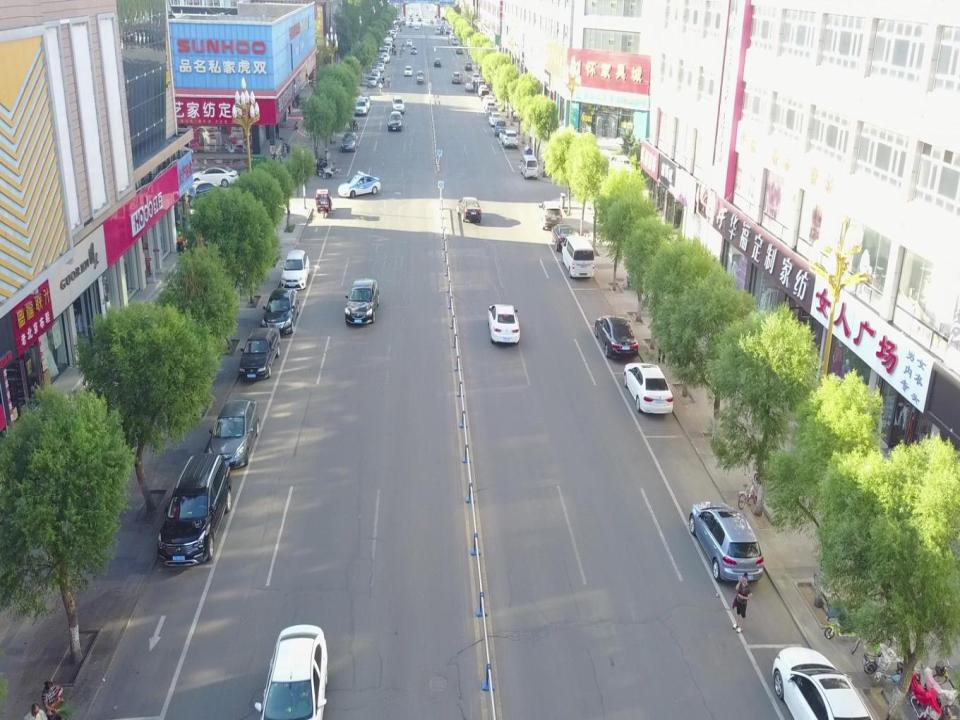car: (156, 454, 231, 568), (772, 644, 874, 720), (258, 622, 330, 720), (690, 502, 764, 588), (207, 397, 260, 469), (625, 361, 673, 417), (238, 326, 280, 382), (595, 314, 639, 360), (261, 284, 297, 338), (180, 178, 231, 214), (343, 276, 379, 324), (487, 304, 521, 345), (336, 172, 380, 200), (281, 250, 311, 291), (188, 167, 238, 189), (551, 223, 577, 252), (457, 195, 481, 224), (539, 200, 561, 230), (340, 131, 360, 153), (499, 129, 519, 149), (387, 110, 401, 133), (391, 96, 405, 114), (494, 118, 506, 137), (355, 99, 369, 115), (489, 112, 500, 127), (451, 71, 462, 83), (361, 94, 369, 109), (415, 71, 424, 84), (404, 66, 413, 76), (434, 58, 442, 67), (464, 61, 472, 70), (456, 45, 463, 55), (410, 46, 417, 55), (406, 39, 413, 45), (409, 23, 413, 28), (415, 25, 419, 29)
van: (560, 235, 594, 279), (520, 156, 539, 180)
